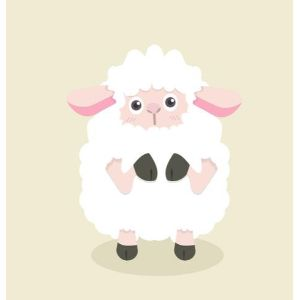sheep: (63, 42, 244, 263)
